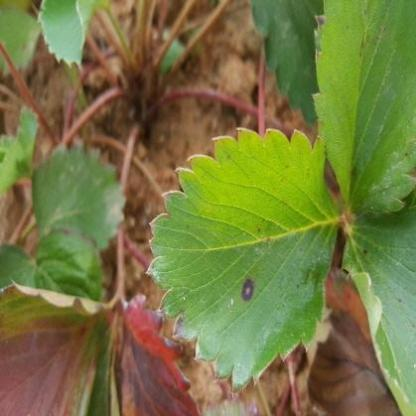Strawberry_Leaf_Spot: (144, 126, 342, 396), (312, 0, 415, 223), (342, 186, 416, 416)
